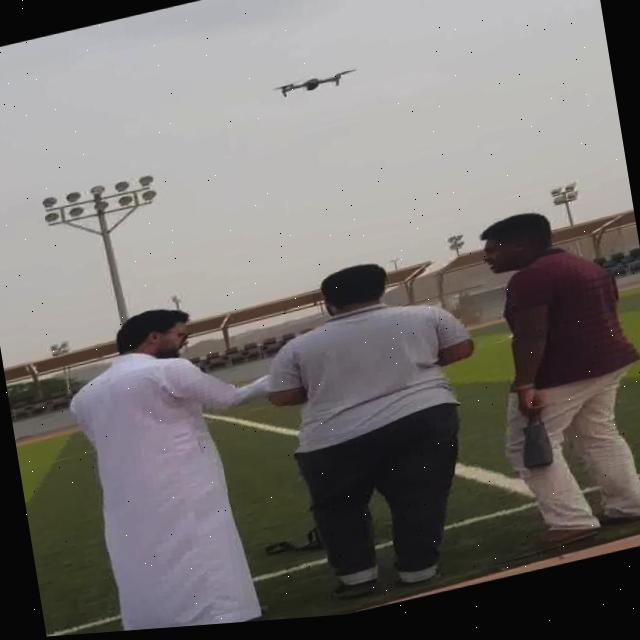drone: (266, 66, 359, 111)
